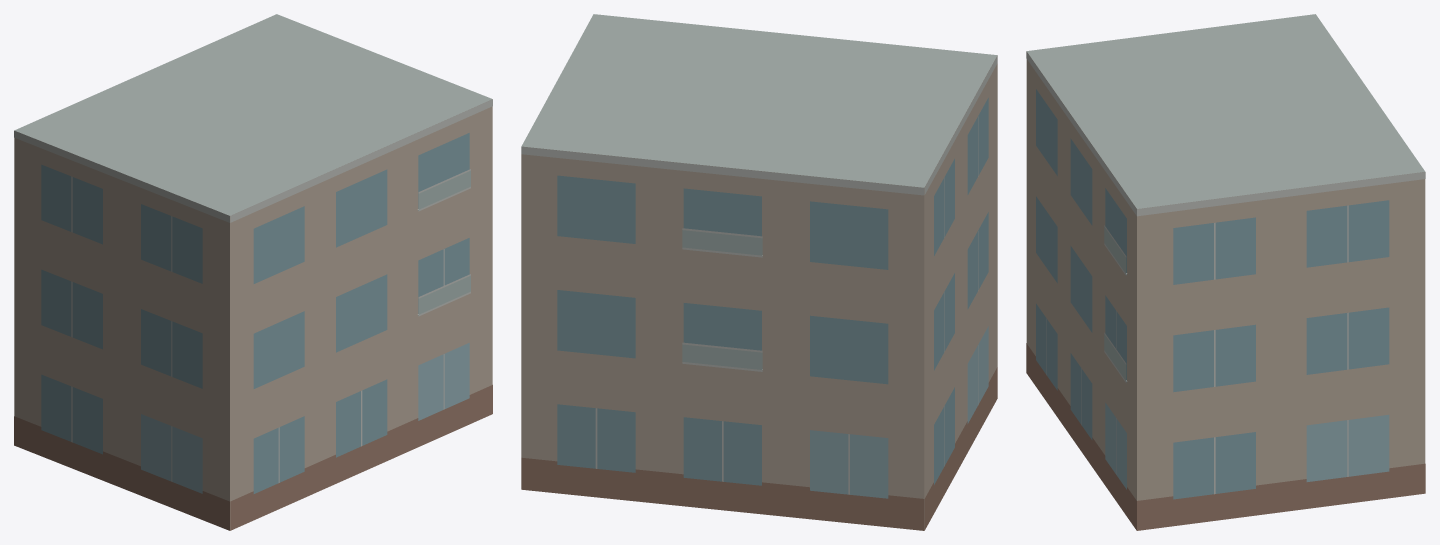
File: survey-upis-32861872.glb
The picture shows the model from 3 angles, left to right: view 1: azimuth 30°, elevation 25°; view 2: azimuth 150°, elevation 25°; view 3: azimuth 270°, elevation 25°; orthographic projection. The views are drawn at different scales.
Visible parts, largest first — view 1: survey-upis-32861872.tmp; view 2: survey-upis-32861872.tmp; view 3: survey-upis-32861872.tmp.
Boxes of the visible parts, x1=… form: survey-upis-32861872.tmp: x1=14, y1=14, x2=492, y2=530; survey-upis-32861872.tmp: x1=521, y1=14, x2=997, y2=530; survey-upis-32861872.tmp: x1=1026, y1=14, x2=1425, y2=530.
Size of the model in its own units: 14.05 by 10.8 by 12.15.
